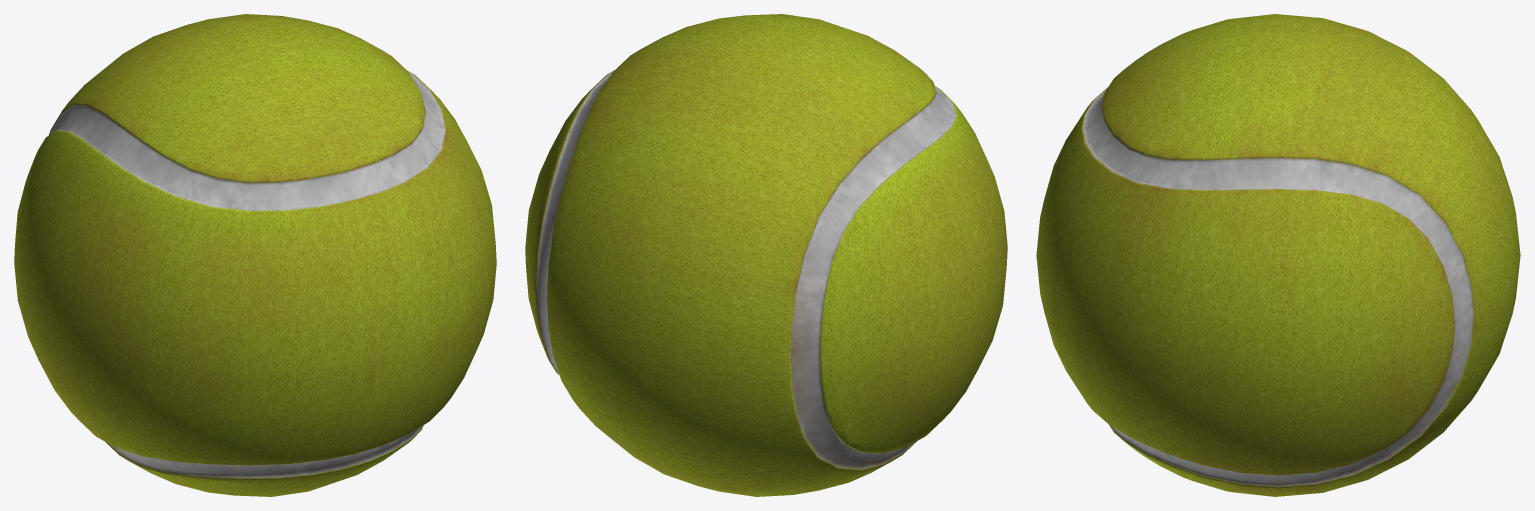
File: tennis_ball.fbx
3 renders of one model, left to right at view 1: azimuth 30°, elevation 25°; view 2: azimuth 150°, elevation 25°; view 3: azimuth 270°, elevation 25°, orthographic.
Visible parts, largest first — view 1: tennis_ball; view 2: tennis_ball; view 3: tennis_ball.
Boxes of the visible parts, left/top/right/bottom form: tennis_ball: left=14, top=14, right=496, bottom=496; tennis_ball: left=525, top=14, right=1007, bottom=496; tennis_ball: left=1036, top=14, right=1520, bottom=496.
Bounding box in the file's own units: 17.03 × 17.03 × 17.03.
1 material, 1 textured.
